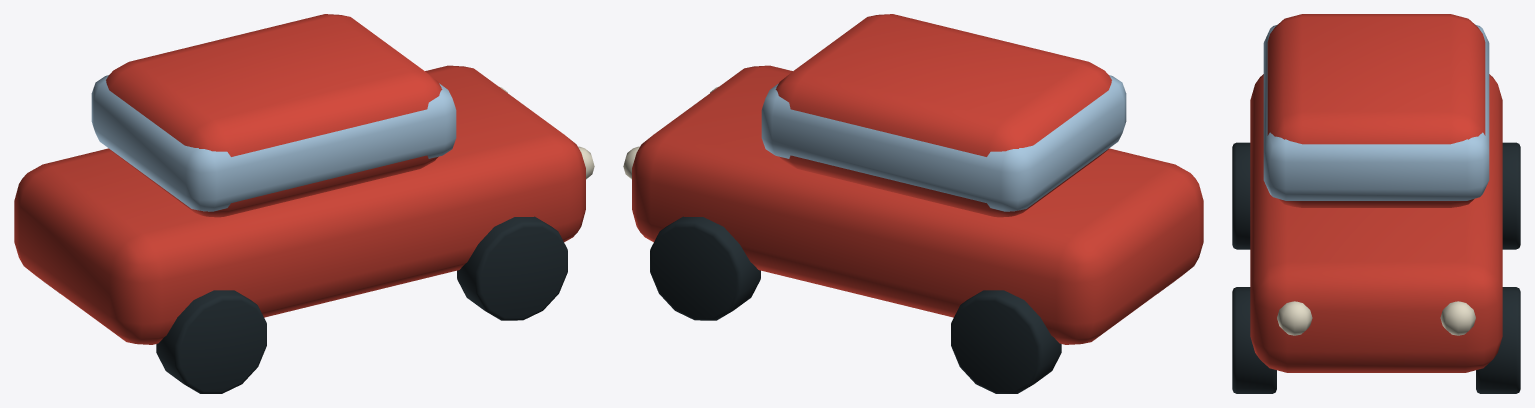
Rendered from prop_car_red.glb.
3 renders of one model, left to right at view 1: azimuth 30°, elevation 25°; view 2: azimuth 150°, elevation 25°; view 3: azimuth 270°, elevation 25°, orthographic.
Parts seen in each view (by area): view 1: prop_car_red, Glass_prop_car_red; view 2: prop_car_red, Glass_prop_car_red; view 3: prop_car_red, Glass_prop_car_red.
Part boxes in pixels (box(x1,y1,x2,y2)): prop_car_red: box(14, 14, 594, 393); Glass_prop_car_red: box(91, 75, 456, 211); prop_car_red: box(623, 14, 1203, 393); Glass_prop_car_red: box(761, 75, 1126, 211); prop_car_red: box(1232, 14, 1520, 393); Glass_prop_car_red: box(1263, 24, 1489, 200).
Size of the model in its own units: 3.72 by 1.78 by 1.94.
